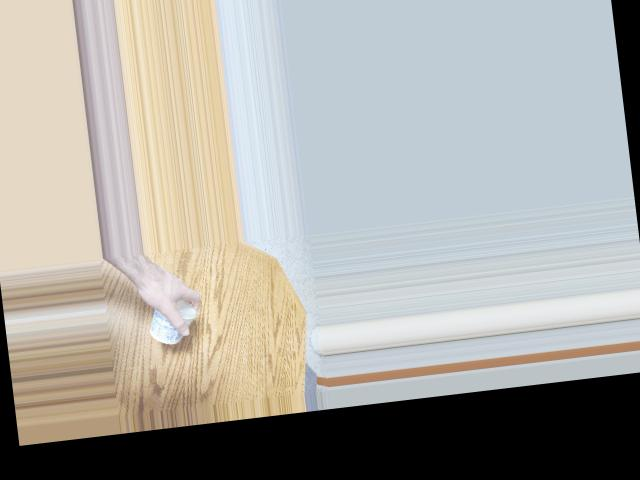cotage: (150, 299, 200, 345)
